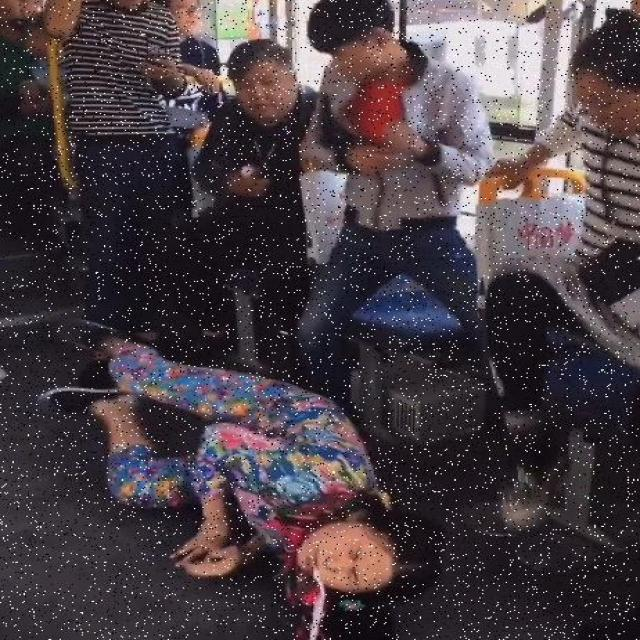fall: (58, 340, 405, 631)
